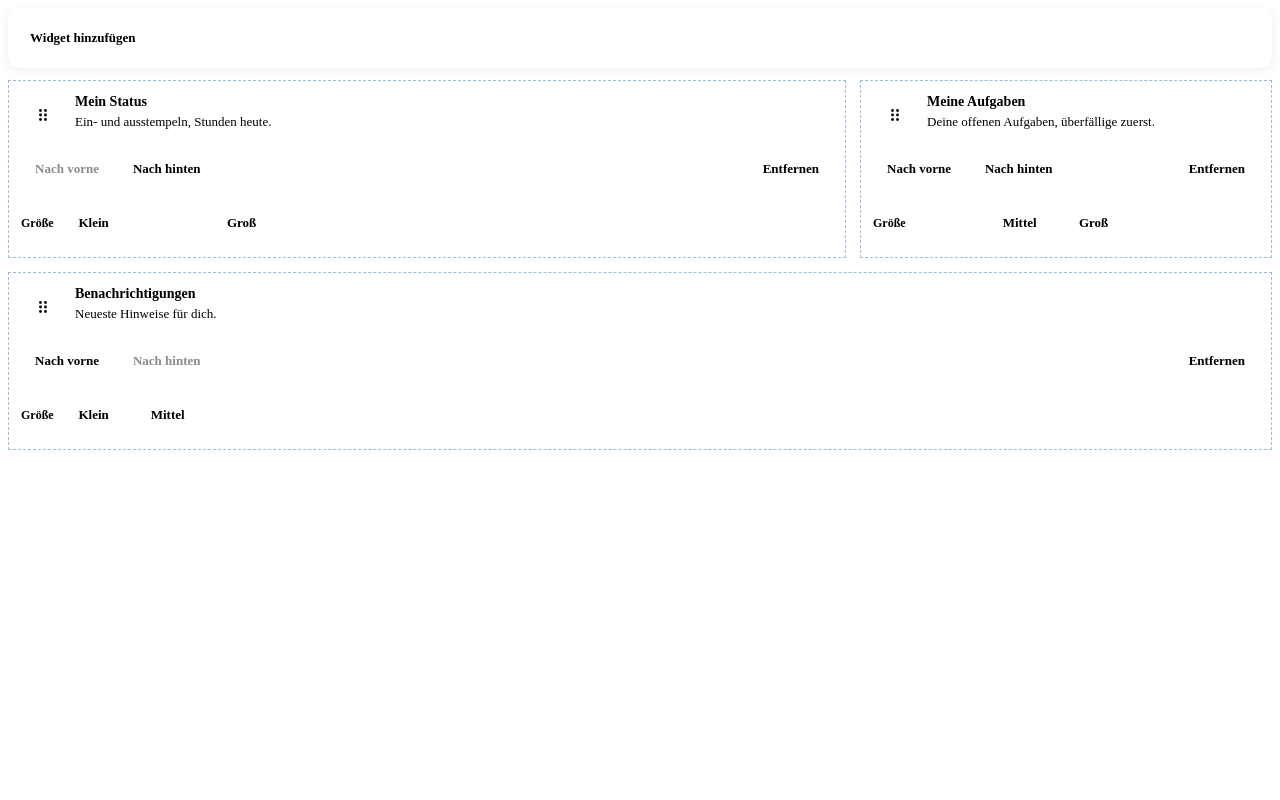
DashboardEditor — adding › adds at the end, at its default size, and announces it
Click the button "Widget hinzufügen": (83, 38) [16,16,150,60]
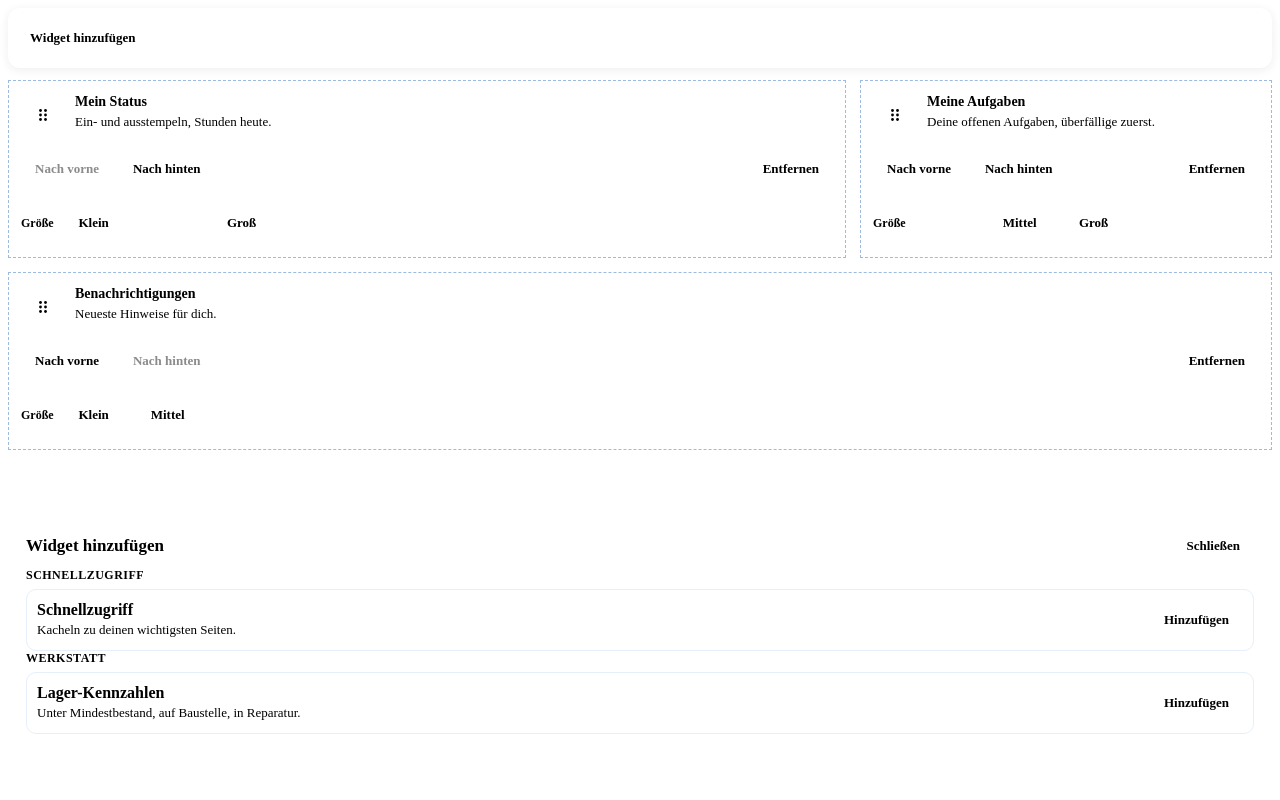
Click the button with aria-label "„Schnellzugriff“ hinzufügen": (1196, 620) [1150,598,1243,642]
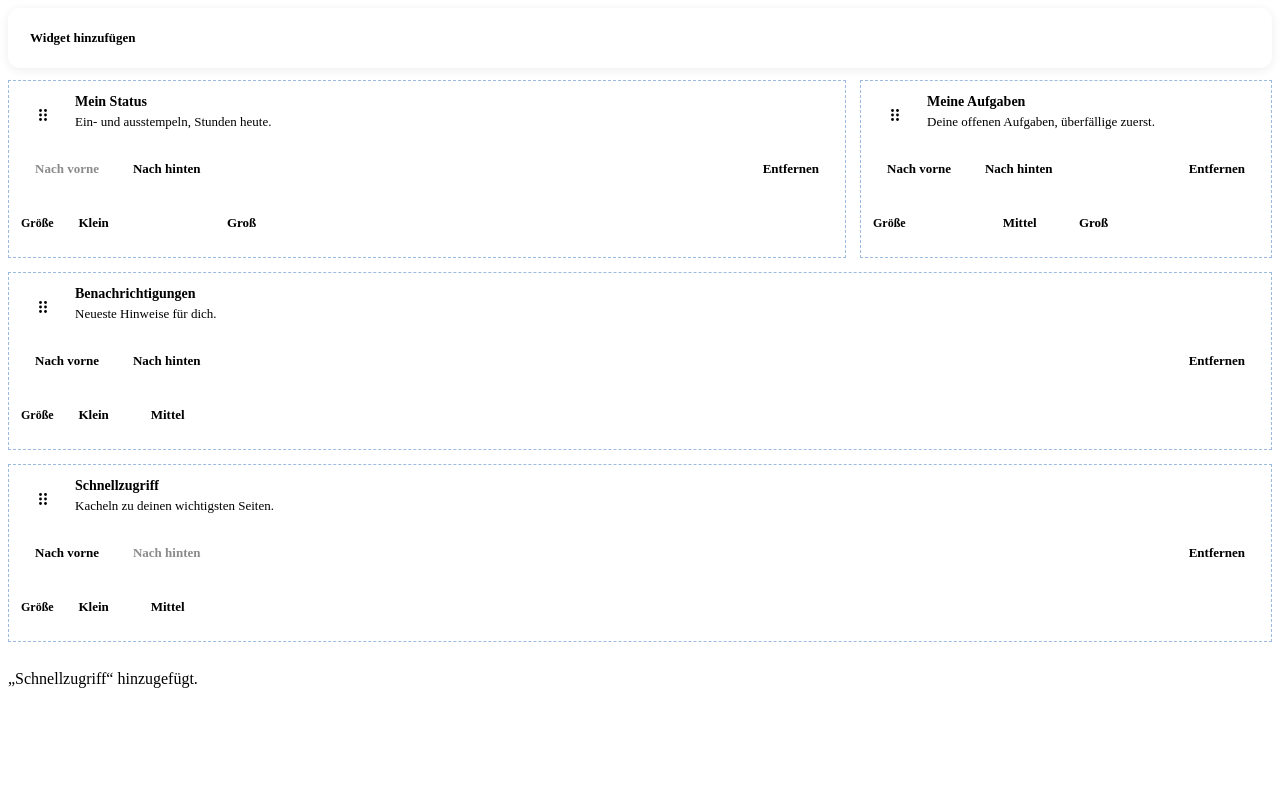
Expected: the text "„Schnellzugriff“ hinzugefügt." is shown, [8,670,198,687]
Expected: the dialog is gone
